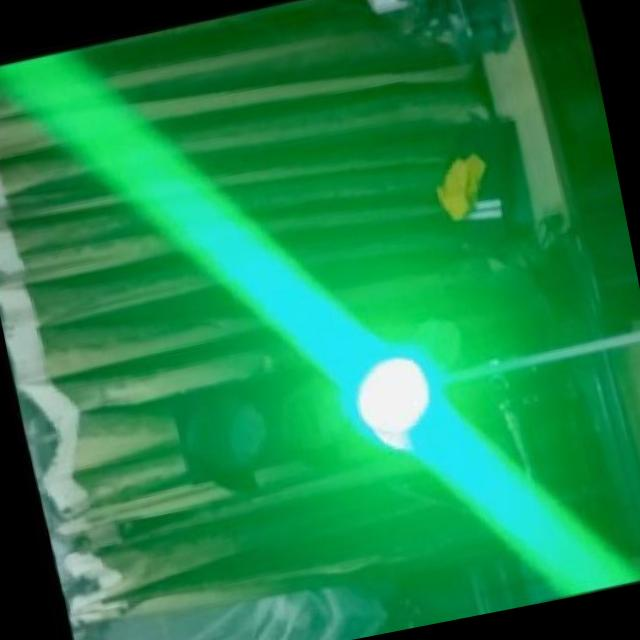green-lights: (321, 324, 468, 457)
